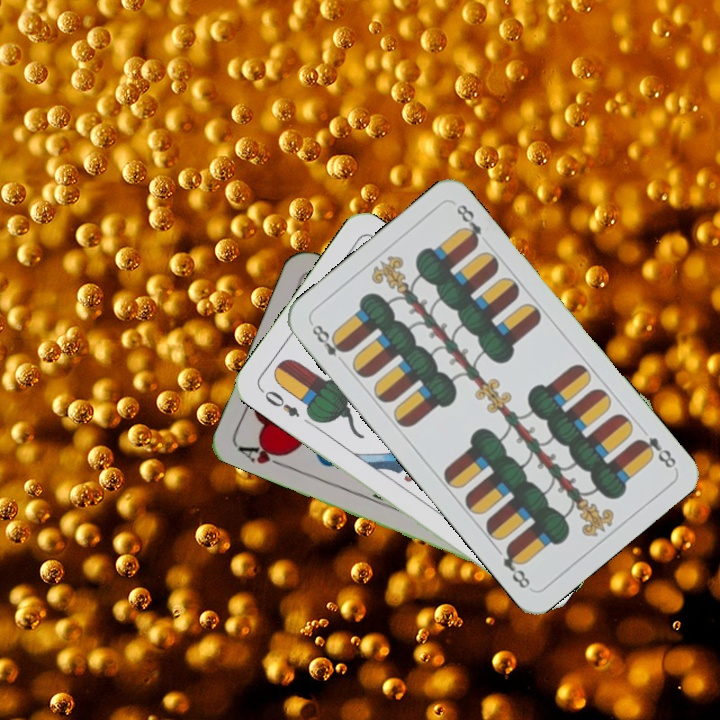E8: (307, 319, 351, 369), (632, 432, 679, 471)
EO: (256, 385, 303, 420)
HA: (234, 438, 291, 472)
